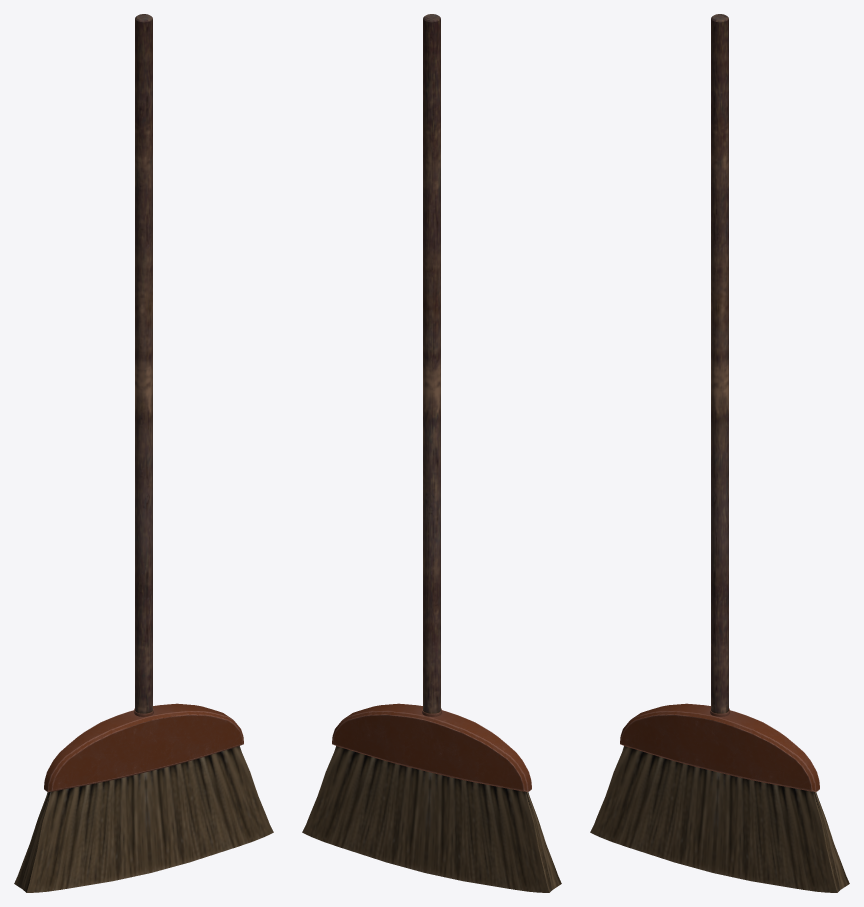
File: Broom.fbx
3 renders of one model, left to right at view 1: azimuth 30°, elevation 25°; view 2: azimuth 150°, elevation 25°; view 3: azimuth 330°, elevation 25°, orthographic.
Visible parts, largest first — view 1: Vassoura; view 2: Vassoura; view 3: Vassoura.
Boxes of the visible parts, left/top/right/bottom form: Vassoura: left=14, top=14, right=273, bottom=892; Vassoura: left=302, top=14, right=561, bottom=892; Vassoura: left=590, top=14, right=849, bottom=892.
Size of the model in its own units: 45.2 by 149 by 4.46.
